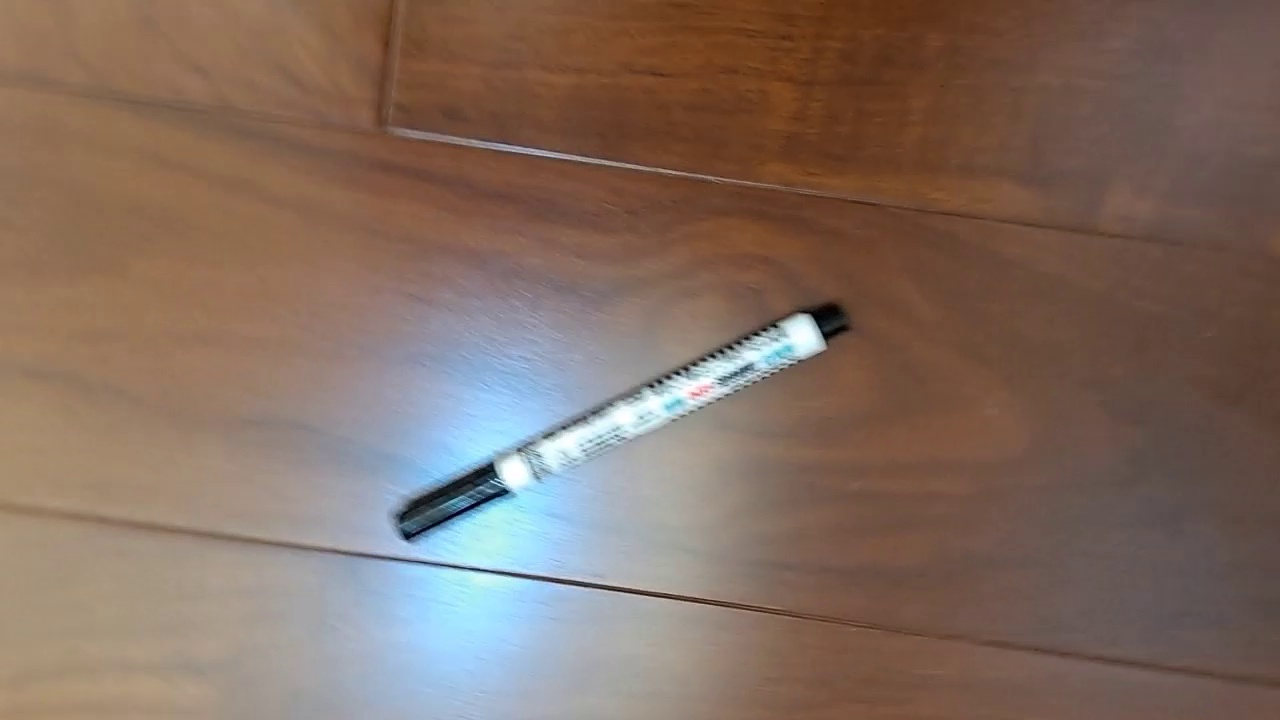pen: (391, 299, 854, 544)
